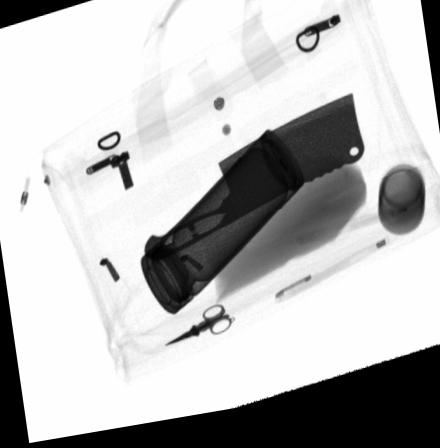Knife: (145, 105, 365, 266)
Scissors: (164, 311, 232, 350)
